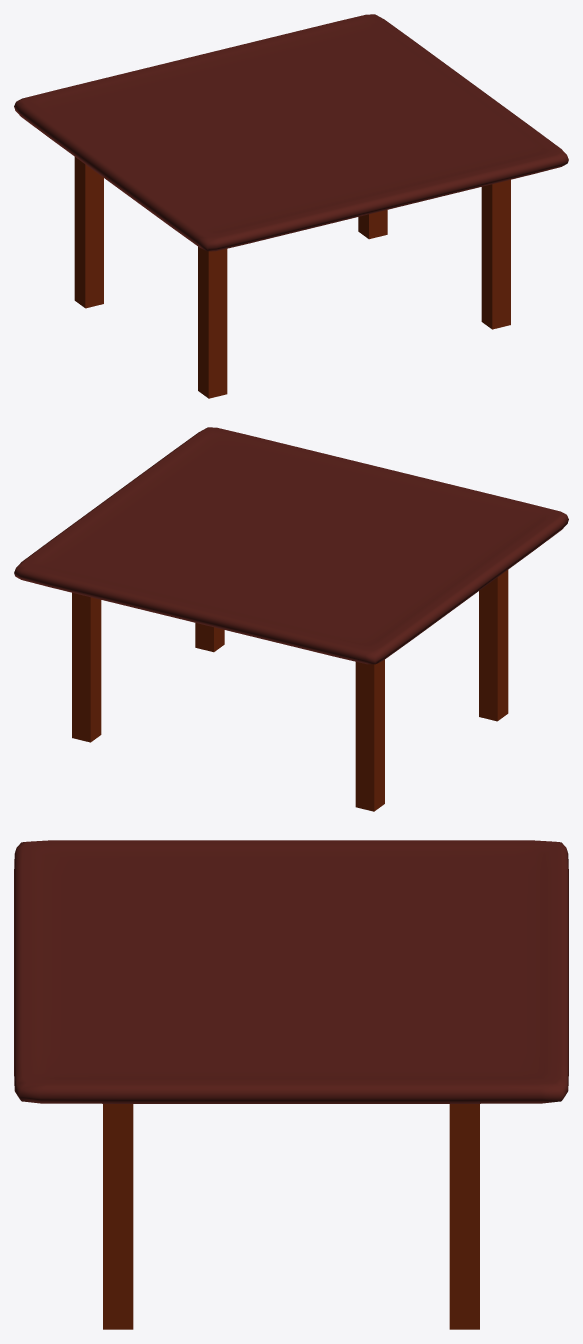
Rendered from WoodenGoodTable.fbx.
The picture shows the model from 3 angles, top to bottom: view 1: azimuth 30°, elevation 25°; view 2: azimuth 150°, elevation 25°; view 3: azimuth 270°, elevation 25°; orthographic projection. The views are drawn at different scales.
Parts seen in each view (by area): view 1: Cube.004, Cube.003; view 2: Cube.004, Cube.003; view 3: Cube.004, Cube.003.
Boxes of the visible parts, x1,y1,x2,y2 form: Cube.004: (14,14,568,251); Cube.003: (74,157,510,398); Cube.004: (14,427,568,664); Cube.003: (72,570,508,811); Cube.004: (14,840,568,1103); Cube.003: (103,1104,479,1329).
Size of the model in its own units: 263 by 129 by 246.
